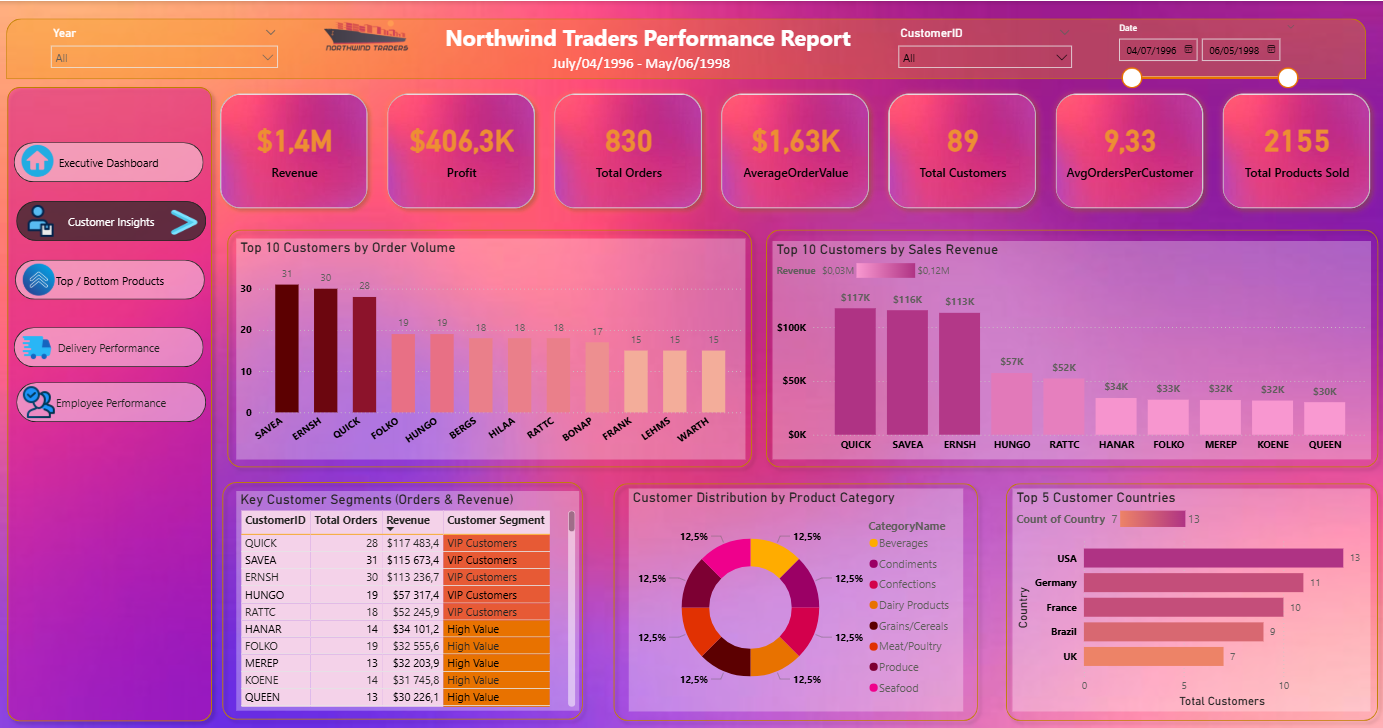

The page's visual inventory and layout, read from the dashboard file:
{"tool":"powerbi","page":{"name":"Customer Insights","canvas":[1700,900],"ordinal":1},"visuals":[{"type":"cardVisual","fields":{"Data":["Measures_table.Revenue","Measures_table.Profit","Measures_table.OrderCount","Measures_table.AverageOrderValue","Measures_table.Total Customers","Measures_table.Avg Orders per customer","Measures_table.Total Products Sold"]},"box":[253.5,96.4,1446.1,175.7],"z":0},{"type":"shape","box":[7.8,21.8,1668.5,74.6],"z":1000},{"type":"textbox","box":[426.1,21.8,737,49.8],"z":2000},{"type":"textbox","box":[494.5,59.1,586.2,37.3],"z":3000},{"type":"image","box":[379.4,0,138.4,79.3],"z":4000},{"type":"shape","box":[269.7,271.5,661.6,309.8],"z":5000},{"type":"shape","box":[931.3,271.5,769.1,309.8],"z":6000},{"type":"clusteredColumnChart","title":"Top 10 Customers by Order Volume","fields":{"Category":["customers.CustomerID"],"Y":["Measures_table.Total Orders"]},"box":[289.8,291.6,625.1,271.5],"z":7000},{"type":"clusteredColumnChart","title":"Top 10 Customers by Sales Revenue","fields":{"Category":["customers.CustomerID"],"Y":["Measures_table.Revenue"]},"box":[947.7,295.2,734.5,267.9],"z":8000},{"type":"shape","box":[264.3,581.6,460.3,309.4],"z":9000},{"type":"shape","box":[743.3,583.1,464.9,309.4],"z":10000},{"type":"shape","box":[1225.3,583.1,474.3,309.4],"z":11000},{"type":"donutChart","title":"Customer Distribution by Product Category","fields":{"Y":["Measures_table.Total Customers"],"Category":["categories.CategoryName"]},"box":[770.9,597.8,410.1,273.4],"z":12000},{"type":"shape","box":[0,96.4,269,796.1],"z":13000},{"type":"slicer","fields":{"Values":["customers.CustomerID"]},"box":[1091.6,26.4,233.2,63.8],"z":14000},{"type":"slicer","fields":{"Values":["Dates.Date"]},"box":[1360.6,21.8,241,96.4],"z":15000},{"type":"pageNavigator","box":[17.1,172.6,233.2,49.8],"z":16000},{"type":"pageNavigator","box":[18.2,317.1,233.3,49.2],"z":17000},{"type":"slicer","fields":{"Values":["Dates.Date.Variation.Date Hierarchy.Year"]},"box":[52.9,25.5,298.9,65.6],"z":18000},{"type":"image","box":[20,317.1,54.7,49.2],"z":27000},{"type":"image","box":[18.2,171.3,54.7,49.2],"z":28000},{"type":"pageNavigator","box":[16.4,400.9,233.3,49.2],"z":29000},{"type":"image","box":[16.4,400.9,56.5,49.2],"z":30000},{"type":"pageNavigator","box":[20,468.4,233.3,49.2],"z":31000},{"type":"image","box":[16.4,468.4,62,49.2],"z":32000},{"type":"clusteredBarChart","title":"Top 5 Customer Countries","fields":{"Category":["customers.Country"],"Y":["Measures_table.Total Customers"]},"box":[1242.9,597.8,439.2,273.4],"z":33000},{"type":"tableEx","title":"Key Customer Segments (Orders & Revenue)","fields":{"Values":["customers.CustomerID","Measures_table.Total Orders","Measures_table.Revenue","Measures_table.Customer Segment"]},"box":[289.8,601.4,421,269.7],"z":34000},{"type":"pageNavigator","box":[20,246,233.3,49.2],"z":35000},{"type":"image","box":[21.9,246,56.5,49.2],"z":36000},{"type":"image","box":[202.3,251.5,47.4,40.1],"z":37000}]}

Visuals, with their boxes in screenshot pixels (x1, y1, x2, y2), scaled from the page's 1700x900 canvas onto the 1383x728 screenshot:
cardVisual - Measures_table.Revenue x Measures_table.Profit: box=[206, 78, 1382, 220]
shape: box=[6, 18, 1364, 78]
textbox: box=[347, 18, 946, 58]
textbox: box=[402, 48, 879, 78]
image: box=[309, 0, 421, 64]
shape: box=[219, 220, 758, 470]
shape: box=[758, 220, 1382, 470]
"Top 10 Customers by Order Volume" clusteredColumnChart: box=[236, 236, 744, 455]
"Top 10 Customers by Sales Revenue" clusteredColumnChart: box=[771, 239, 1369, 455]
shape: box=[215, 470, 589, 721]
shape: box=[605, 472, 983, 722]
shape: box=[997, 472, 1382, 722]
"Customer Distribution by Product Category" donutChart: box=[627, 484, 961, 705]
shape: box=[0, 78, 219, 722]
slicer - customers.CustomerID: box=[888, 21, 1078, 73]
slicer - Dates.Date: box=[1107, 18, 1303, 96]
pageNavigator: box=[14, 140, 204, 180]
pageNavigator: box=[15, 256, 205, 296]
slicer - Dates.Date.Variation.Date Hierarchy.Year: box=[43, 21, 286, 74]
image: box=[16, 256, 61, 296]
image: box=[15, 139, 59, 178]
pageNavigator: box=[13, 324, 203, 364]
image: box=[13, 324, 59, 364]
pageNavigator: box=[16, 379, 206, 419]
image: box=[13, 379, 64, 419]
"Top 5 Customer Countries" clusteredBarChart: box=[1011, 484, 1368, 705]
"Key Customer Segments (Orders & Revenue)" tableEx: box=[236, 486, 578, 705]
pageNavigator: box=[16, 199, 206, 239]
image: box=[18, 199, 64, 239]
image: box=[165, 203, 203, 236]
